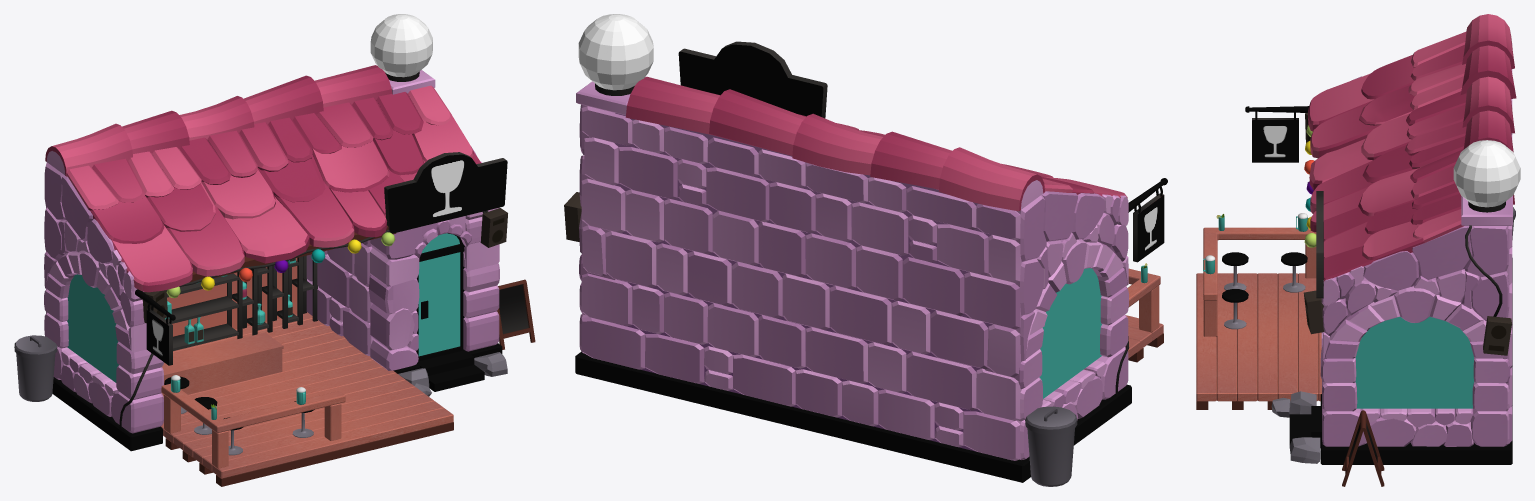
The model's file is Bar_lvl1.fbx.
3 views of the same model, side by side, from view 1: azimuth 30°, elevation 25°; view 2: azimuth 150°, elevation 25°; view 3: azimuth 270°, elevation 25° (orthographic). The views are drawn at different scales.
Parts seen in each view (by area): view 1: Bar_Lvl1; view 2: Bar_Lvl1; view 3: Bar_Lvl1.
Part boxes in pixels (x1=…): Bar_Lvl1: x1=14, y1=14, x2=535, y2=486; Bar_Lvl1: x1=564, y1=14, x2=1167, y2=486; Bar_Lvl1: x1=1196, y1=14, x2=1520, y2=486.
Size of the model in its own units: 898 by 562 by 530.
Materials: 5 (5 with a texture image).
